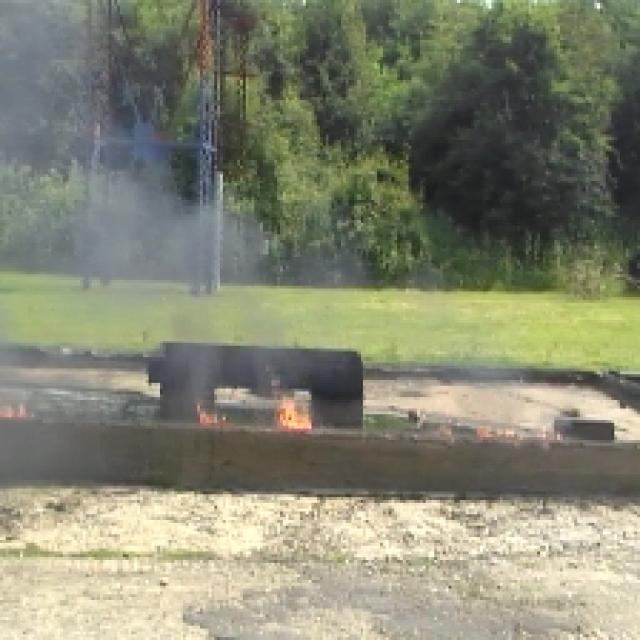Fire: (272, 390, 316, 432)
Smoke: (122, 210, 238, 321)
